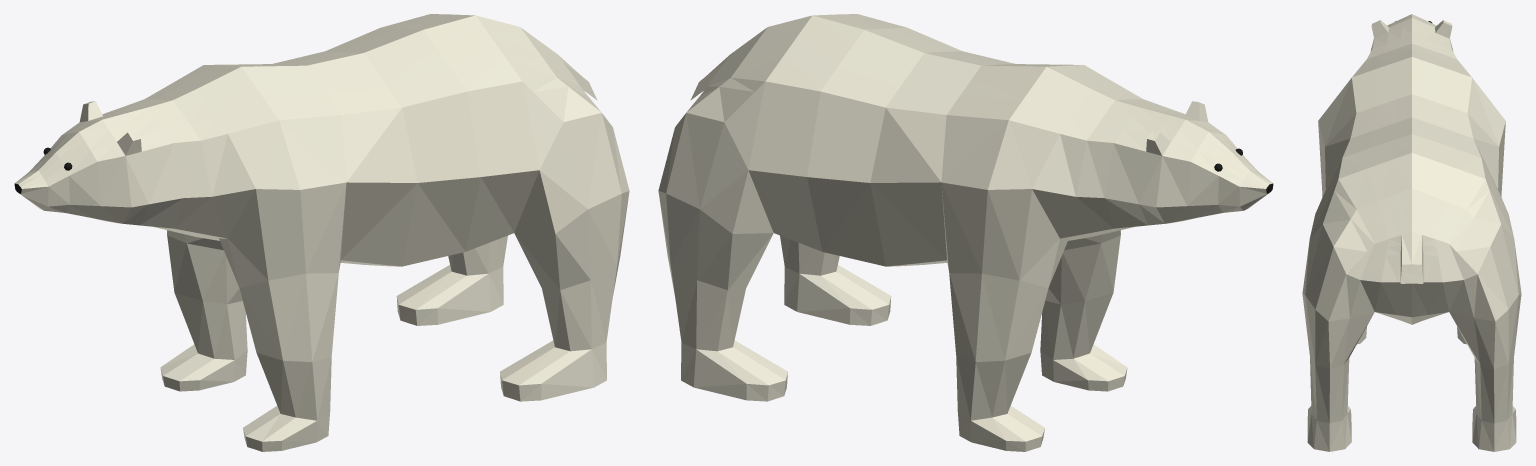
The model's file is polarBear.glb.
3 renders of one model, left to right at view 1: azimuth 30°, elevation 25°; view 2: azimuth 150°, elevation 25°; view 3: azimuth 270°, elevation 25°, orthographic. The views are drawn at different scales.
Parts seen in each view (by area): view 1: polarBear_geo; view 2: polarBear_geo; view 3: polarBear_geo.
Part boxes in pixels (x1=…): polarBear_geo: x1=14, y1=14, x2=629, y2=451; polarBear_geo: x1=658, y1=14, x2=1273, y2=451; polarBear_geo: x1=1302, y1=14, x2=1521, y2=451.
Bounding box in the file's own units: 2.1 × 1.21 × 0.8739.
Materials: 1 (1 with a texture image).
